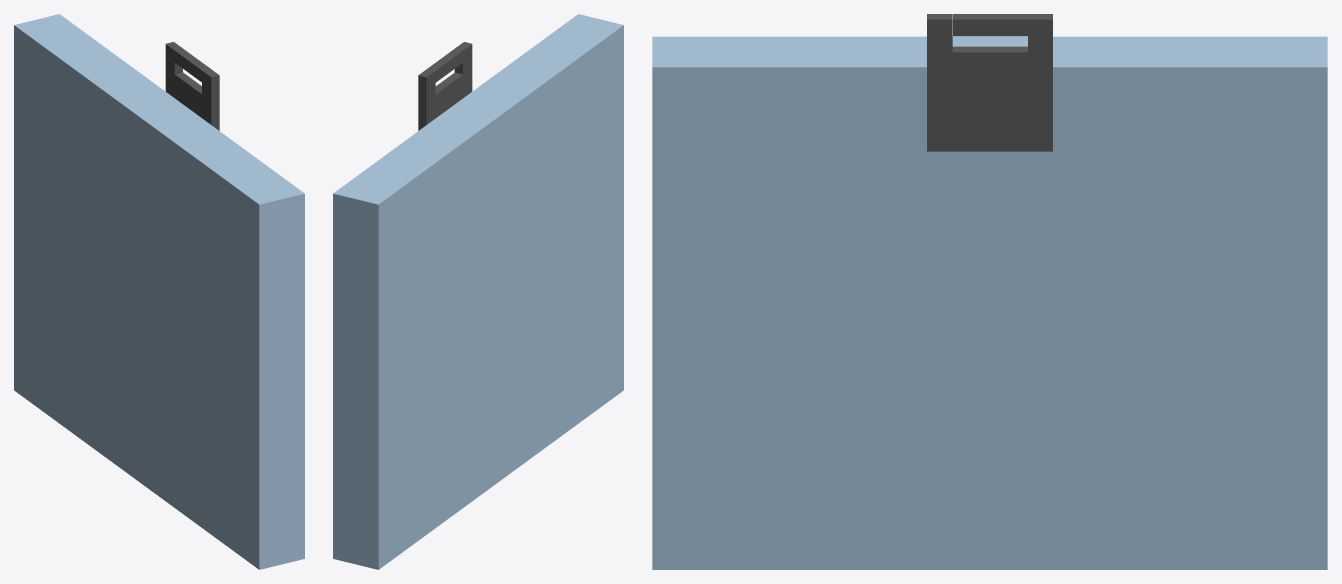
File: Fuel_Cabinet_Door.fbx
The picture shows the model from 3 angles, left to right: view 1: azimuth 30°, elevation 25°; view 2: azimuth 150°, elevation 25°; view 3: azimuth 270°, elevation 25°; orthographic projection. The views are drawn at different scales.
Visible parts, largest first — view 1: Plane.007, Cube.001; view 2: Plane.007, Cube.001; view 3: Plane.007, Cube.001.
Boxes of the visible parts, x1,y1,x2,y2 form: Plane.007: [14, 14, 304, 569]; Cube.001: [165, 42, 219, 130]; Plane.007: [333, 14, 623, 569]; Cube.001: [418, 42, 472, 130]; Plane.007: [652, 36, 1327, 569]; Cube.001: [927, 14, 1052, 151].
Bounding box in the file's own units: 39.57 × 256 × 280.
